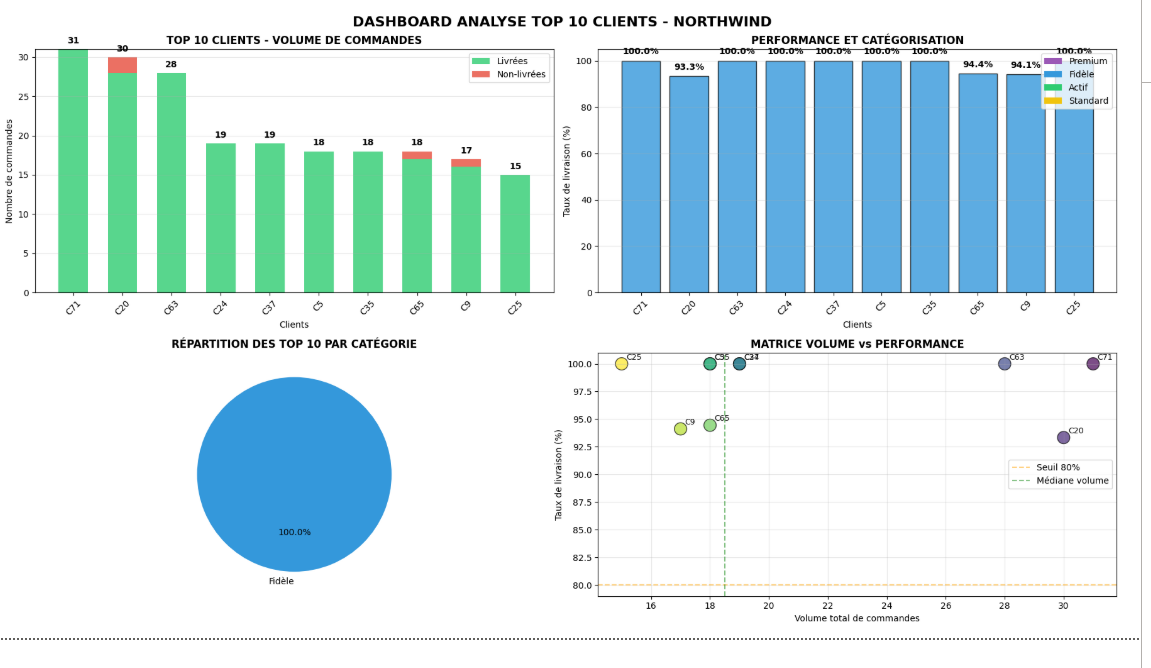

What the dashboard file says about the page in this screenshot:
{"tool":"powerbi","page":{"name":"Analyse TOP 10 CLIENTS","canvas":[1280,720],"ordinal":1},"visuals":[{"type":"pythonVisual","fields":{"Values":["Fait.id_seq_fait"]},"box":[10,0,280,280],"z":0},{"type":"pythonVisual","box":[100,100,300,300],"z":1000},{"type":"pythonVisual","fields":{"Values":["Fait.id_seqClient","Sum(Fait.nbr_commande_livrees)","Sum(Fait.nbr_commande_non_livrees)"]},"box":[0,0,1279.4,644.6],"z":2000}]}

Visuals, with their boxes on the page's 1280x720 design canvas (x1, y1, x2, y2). These are canvas units, not pixel positions in the 1151x668 screenshot, which may show the page scaled, cropped or inside an application window:
pythonVisual - Fait.id_seq_fait: {"x1": 10, "y1": 0, "x2": 290, "y2": 280}
pythonVisual: {"x1": 100, "y1": 100, "x2": 400, "y2": 400}
pythonVisual - Fait.id_seqClient x Sum(Fait.nbr_commande_livrees): {"x1": 0, "y1": 0, "x2": 1279, "y2": 645}
